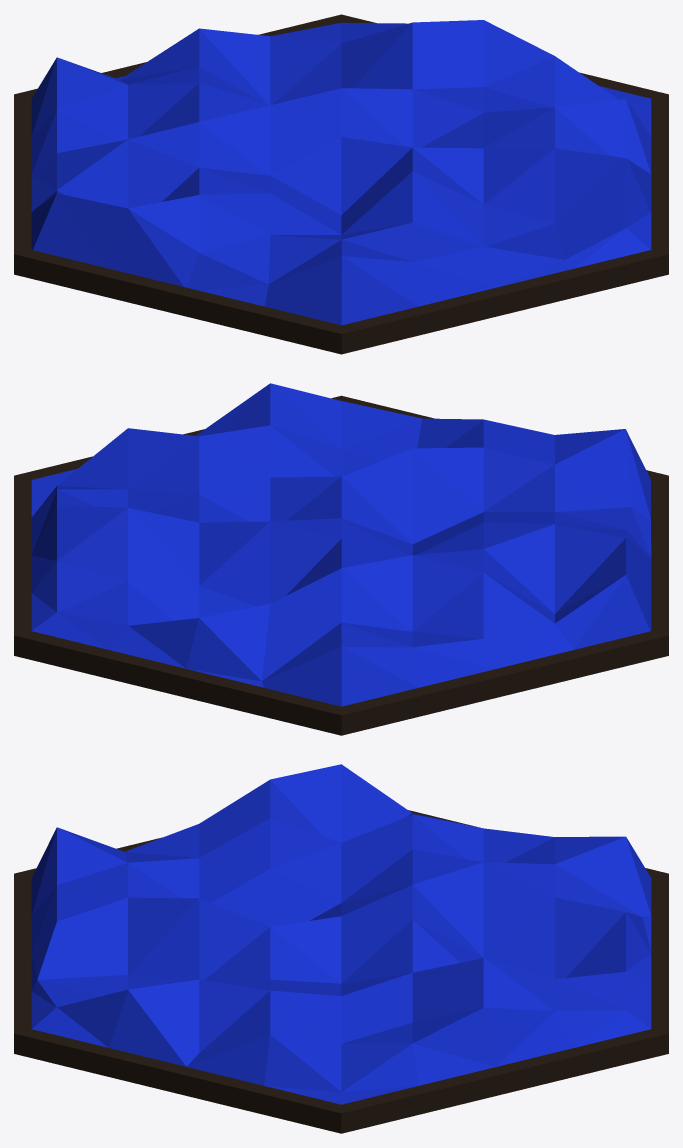
File: seaTile.fbx
3 renders of one model, top to bottom at view 1: azimuth 30°, elevation 25°; view 2: azimuth 150°, elevation 25°; view 3: azimuth 270°, elevation 25°, orthographic.
Parts seen in each view (by area): view 1: Object002; view 2: Object002; view 3: Object002.
Part boxes in pixels (x1,y1,x2,y2): Object002: (14, 14, 668, 354); Object002: (14, 383, 668, 735); Object002: (14, 764, 668, 1133).
Size of the model in its own units: 47.1 by 5.87 by 40.79.
